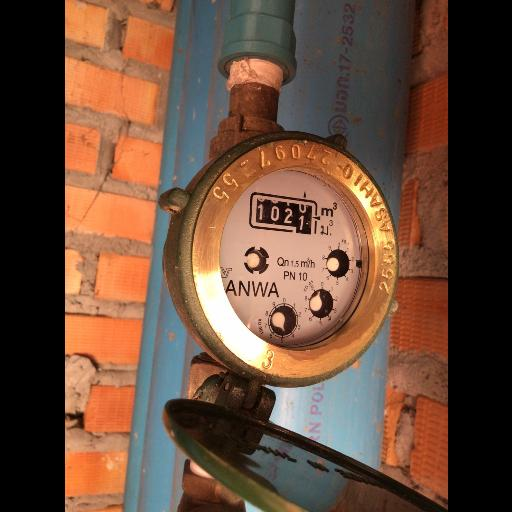0: (268, 199, 280, 225)
1: (295, 204, 310, 235), (255, 198, 266, 224)
2: (281, 202, 295, 227)
border_water_meter_number: (246, 192, 322, 235)
